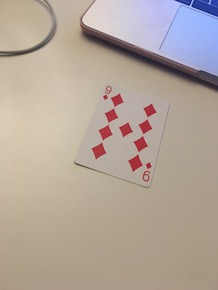NineOfDiamonds: (65, 77, 173, 189)
